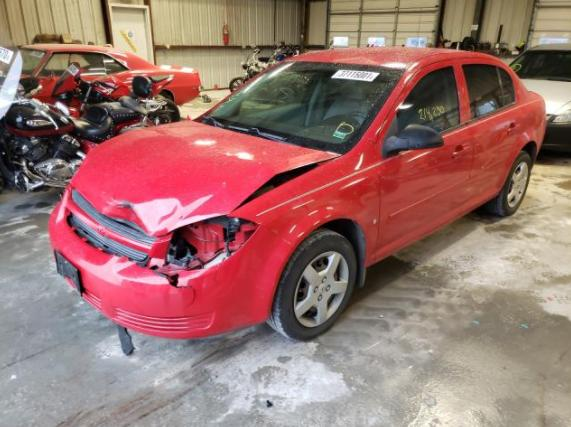Back-door: (455, 58, 521, 199)
Back-wheel: (485, 150, 531, 217)
Back-window: (462, 64, 514, 119)
Fender: (228, 139, 380, 258)
Front-bumper: (48, 183, 295, 341)
Front-door: (375, 59, 472, 252)
Front-wheel: (267, 227, 358, 340)
Front-window: (396, 66, 459, 135)
Grille: (69, 189, 156, 261)
Hood: (70, 120, 341, 237)
License-plate: (55, 250, 80, 293)
Mirror: (384, 125, 444, 156)
Quarter-panel: (497, 91, 546, 185)
Rocker-panel: (363, 184, 504, 269)
Roof: (286, 47, 500, 70)
Windshield: (198, 61, 406, 154)
